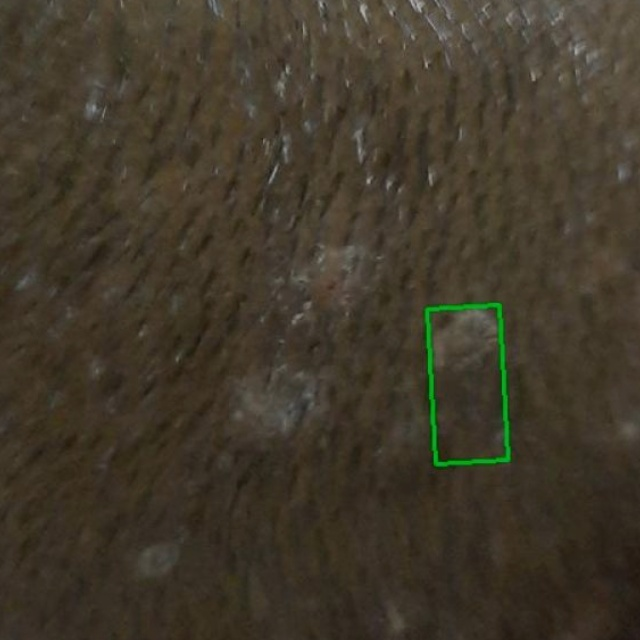Seborrheic Dermatitis: (428, 305, 508, 465)
